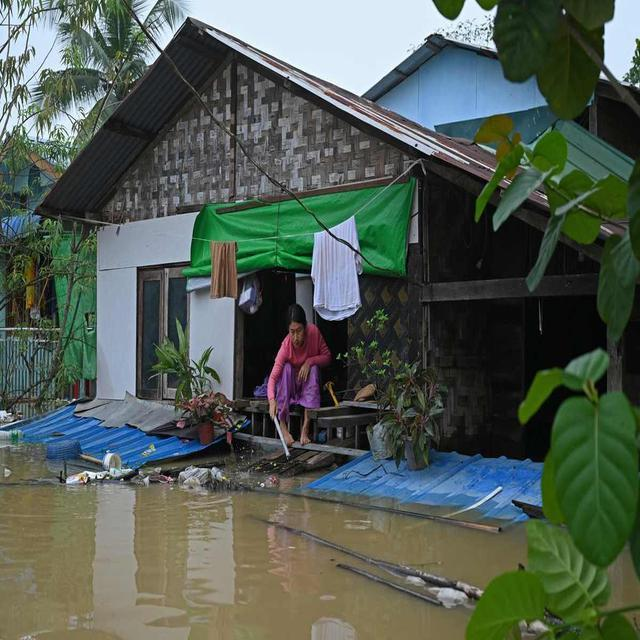Person-RiskLevel1: (256, 291, 337, 453)
